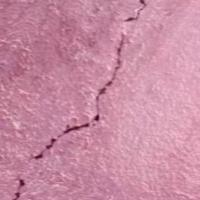crack: (14, 0, 148, 199)
